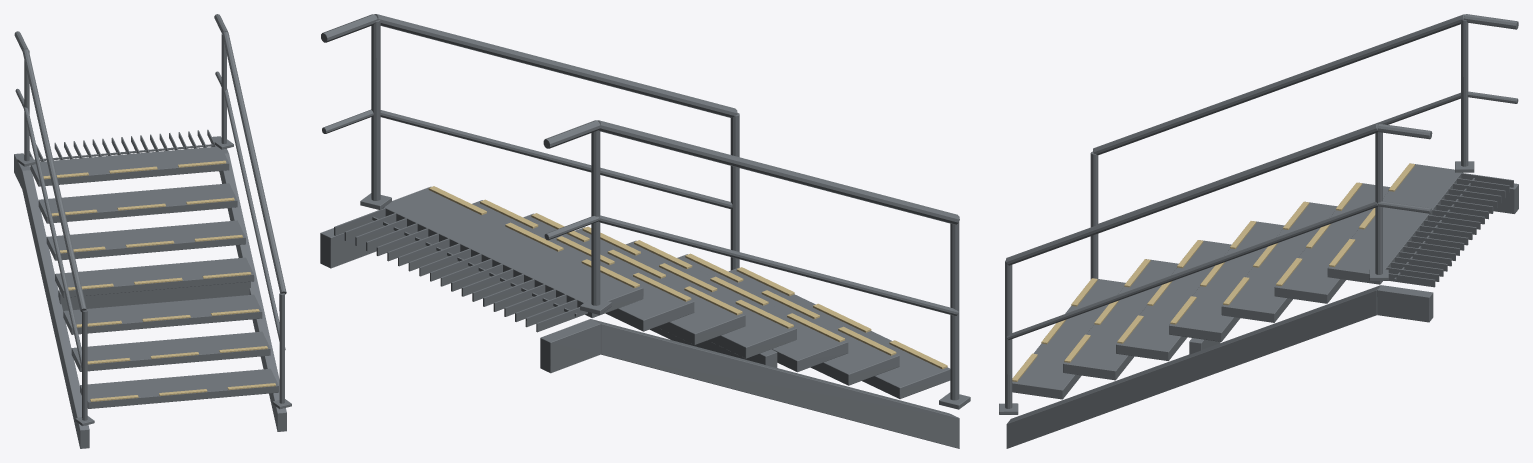
File: BN_C02_Connector_LOD1.fbx
The picture shows the model from 3 angles, left to right: view 1: azimuth 30°, elevation 25°; view 2: azimuth 150°, elevation 25°; view 3: azimuth 270°, elevation 25°; orthographic projection. The views are drawn at different scales.
Parts seen in each view (by area): view 1: BN_C02_Connector_LOD1; view 2: BN_C02_Connector_LOD1; view 3: BN_C02_Connector_LOD1.
Boxes of the visible parts, box(x1,y1,x2,y2) form: BN_C02_Connector_LOD1: box(14, 14, 291, 448); BN_C02_Connector_LOD1: box(320, 14, 970, 448); BN_C02_Connector_LOD1: box(999, 14, 1518, 448).
Size of the model in its own units: 237 by 238 by 298.
